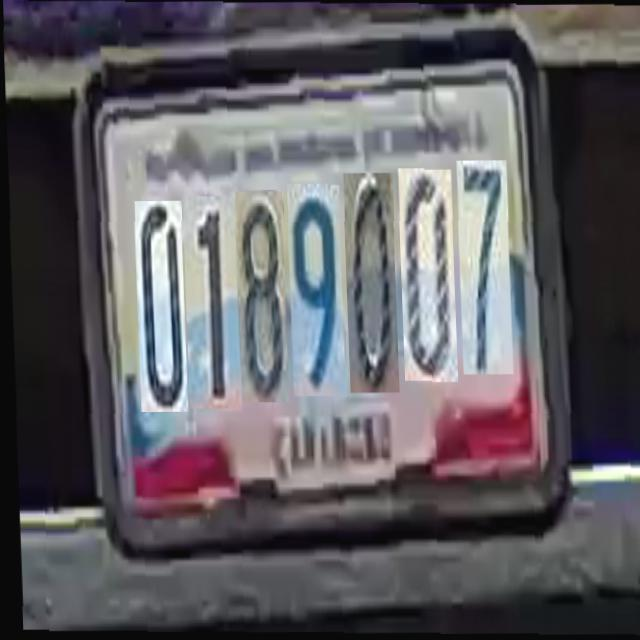0: (395, 164, 454, 377), (132, 200, 184, 410)
1: (180, 195, 238, 408)
7: (454, 155, 509, 369)
8: (232, 189, 285, 400)
9: (284, 180, 342, 394)
O: (340, 169, 396, 389)
